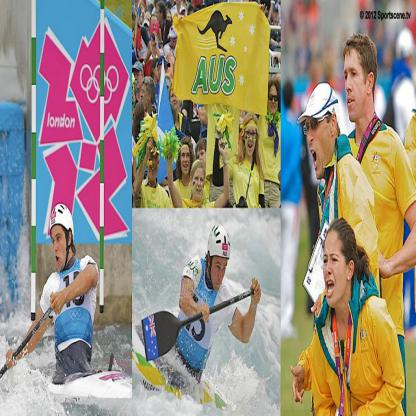face: (307, 102, 330, 181), (324, 236, 347, 307), (344, 53, 367, 123), (52, 226, 69, 269), (212, 250, 228, 291), (148, 149, 160, 182), (246, 123, 257, 156), (193, 169, 205, 199), (269, 88, 279, 116), (181, 146, 191, 174), (197, 148, 208, 170), (133, 69, 143, 90), (142, 82, 149, 109), (171, 89, 179, 110), (161, 64, 169, 84), (156, 6, 162, 23), (156, 62, 161, 81), (145, 26, 150, 42), (167, 14, 172, 29), (173, 36, 178, 49), (146, 16, 151, 29), (274, 10, 279, 22), (153, 22, 157, 36), (141, 6, 146, 16), (136, 1, 139, 9)
